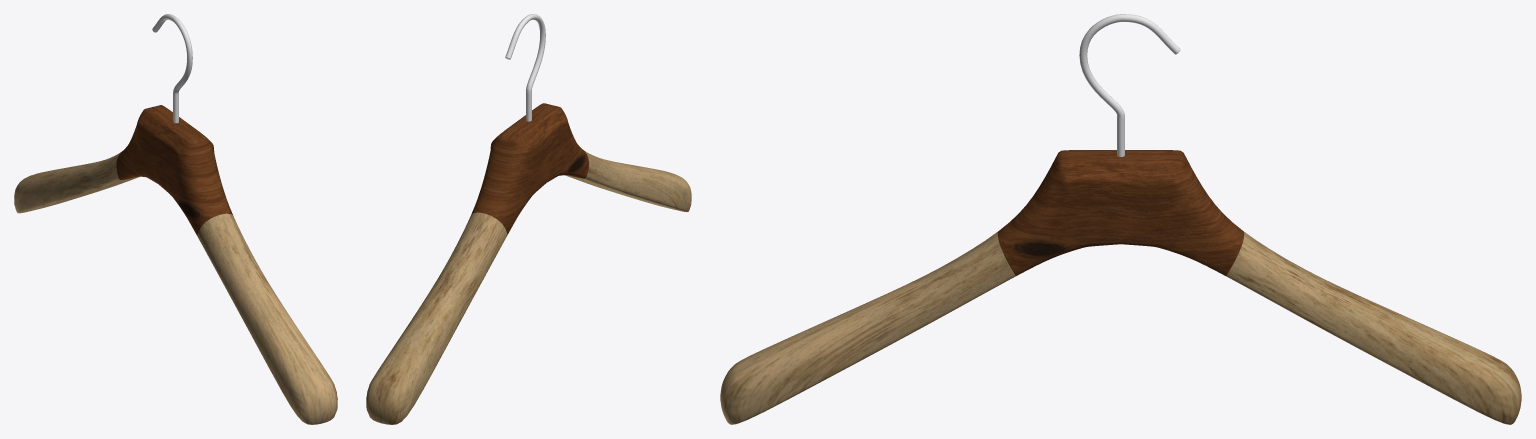
File: AppendiAbiti.fbx
3 views of the same model, side by side, from view 1: azimuth 30°, elevation 25°; view 2: azimuth 150°, elevation 25°; view 3: azimuth 270°, elevation 25° (orthographic). The views are drawn at different scales.
Parts seen in each view (by area): view 1: Hanger; view 2: Hanger; view 3: Hanger.
Part boxes in pixels (x1,y1,x2,y2): Hanger: (14, 14, 337, 424); Hanger: (366, 14, 691, 424); Hanger: (720, 14, 1521, 424).
Bounding box in the file's own units: 3.46 × 24.7 × 44.41.
Materials: 2 (1 with a texture image).
